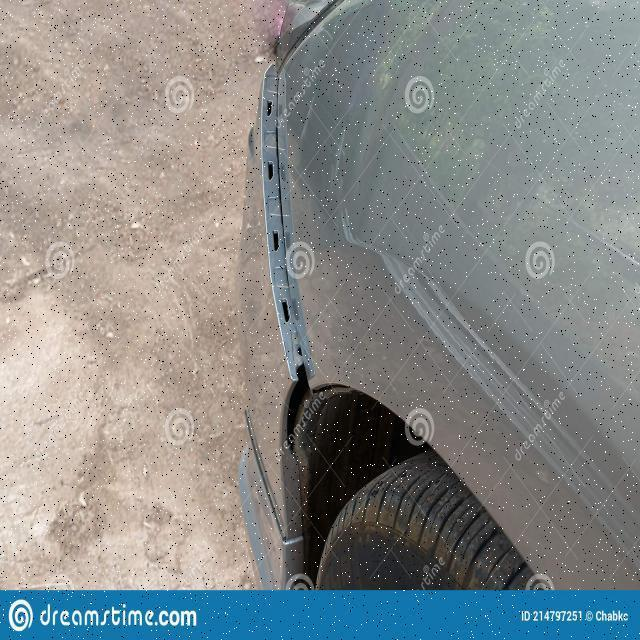front-bumper-dent: (226, 0, 344, 590)
